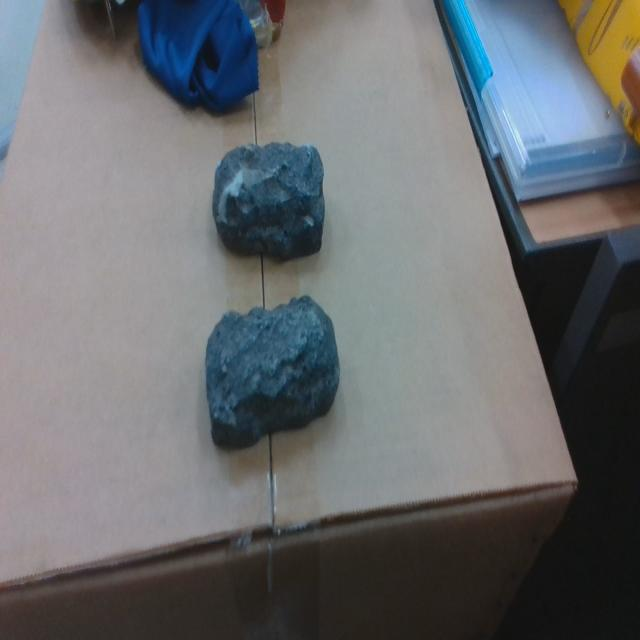stone: (204, 294, 340, 455), (212, 140, 326, 267)
